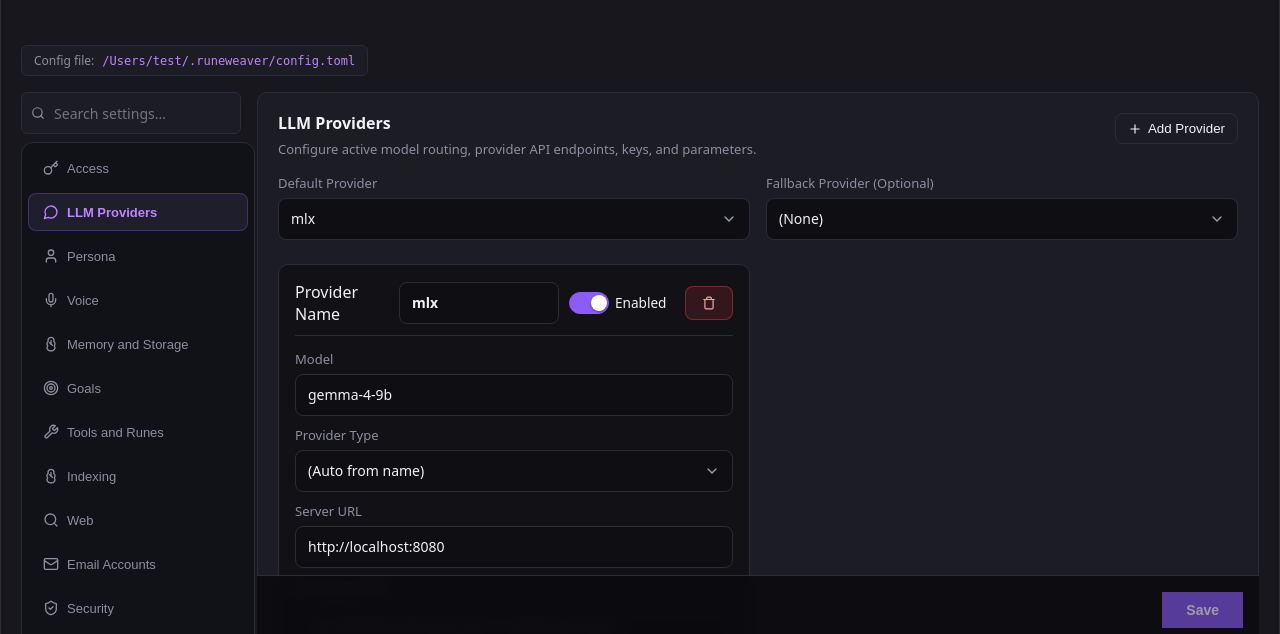
Test: SettingsManager search › drills from a SearXNG item result and highlights the endpoint
expect the field showing "gemma-4-9b" is shown: met, box [295,374,733,416]
In the search field with test id "settings-nav-search": (131, 113) [21,92,241,134], type "SearXNG"
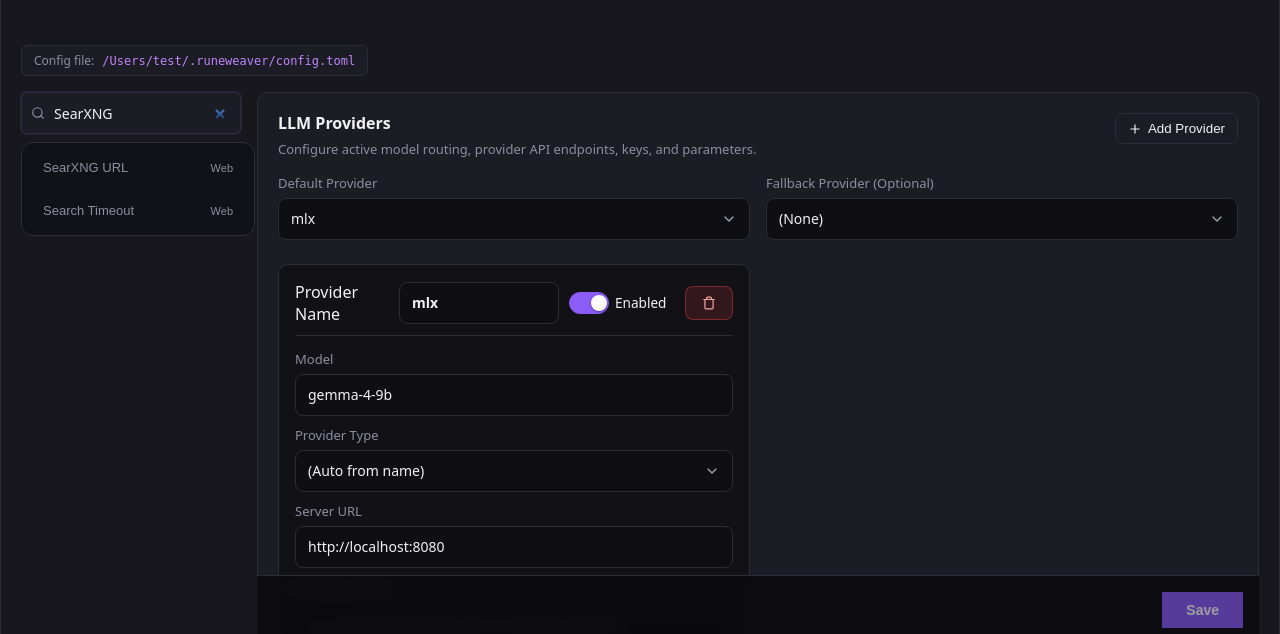
Click the option "SearXNG URL Web": click(138, 168) [28,149,248,186]
(page scrolled)
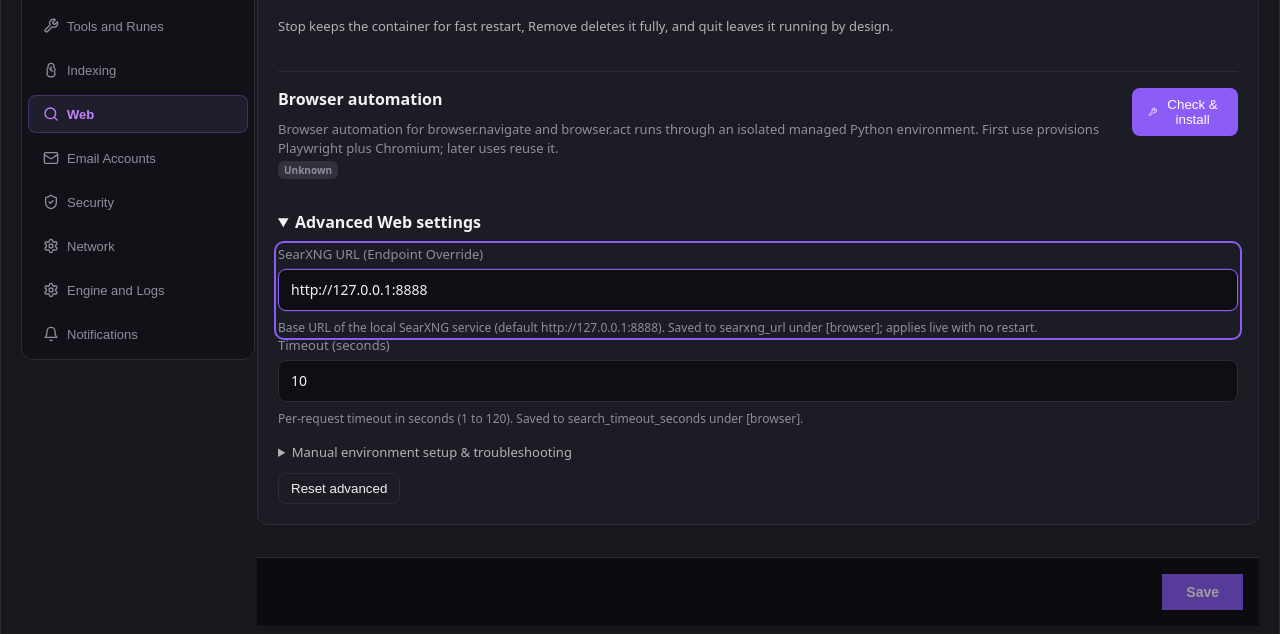
expect the field with id "search-searxng-url" is shown: met, box [278,269,1238,311]
